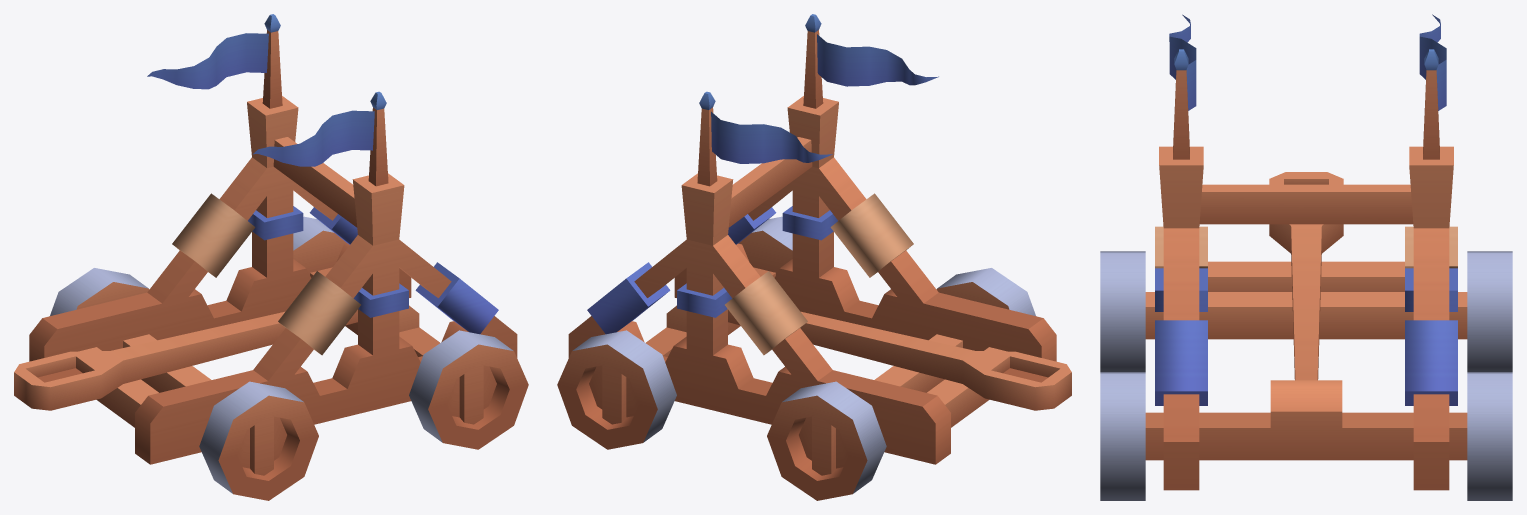
File: siege-catapult.obj
3 renders of one model, left to right at view 1: azimuth 30°, elevation 25°; view 2: azimuth 150°, elevation 25°; view 3: azimuth 270°, elevation 25°, orthographic. The views are drawn at different scales.
Parts seen in each view (by area): view 1: siege-catapult, wheel, catapult; view 2: siege-catapult, wheel, catapult; view 3: siege-catapult, wheel, catapult.
Boxes of the visible parts, x1,y1,x2,y2 form: siege-catapult: [29, 14, 517, 464]; wheel: [50, 216, 528, 500]; catapult: [14, 309, 357, 410]; siege-catapult: [568, 14, 1056, 464]; wheel: [557, 216, 1035, 500]; catapult: [728, 309, 1071, 410]; siege-catapult: [1145, 14, 1467, 490]; wheel: [1100, 251, 1512, 500]; catapult: [1269, 172, 1343, 380].
Size of the model in its own units: 1.73 by 1.33 by 1.21.
1 material, 1 textured.
